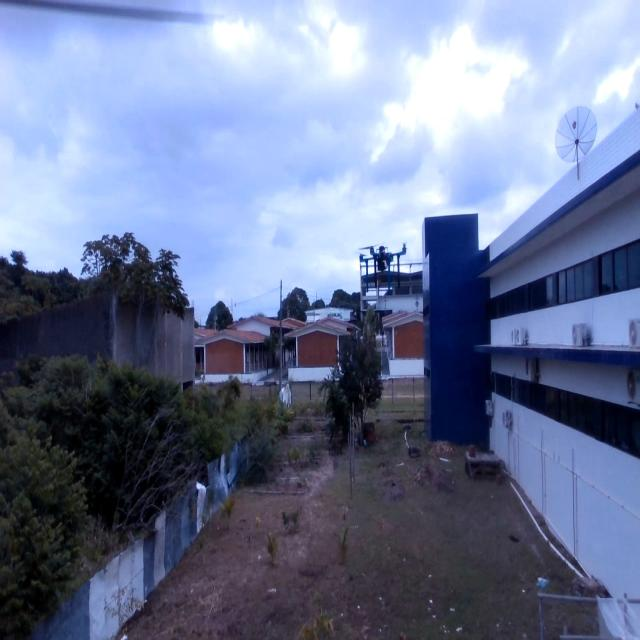-uav-: (350, 234, 415, 305)
